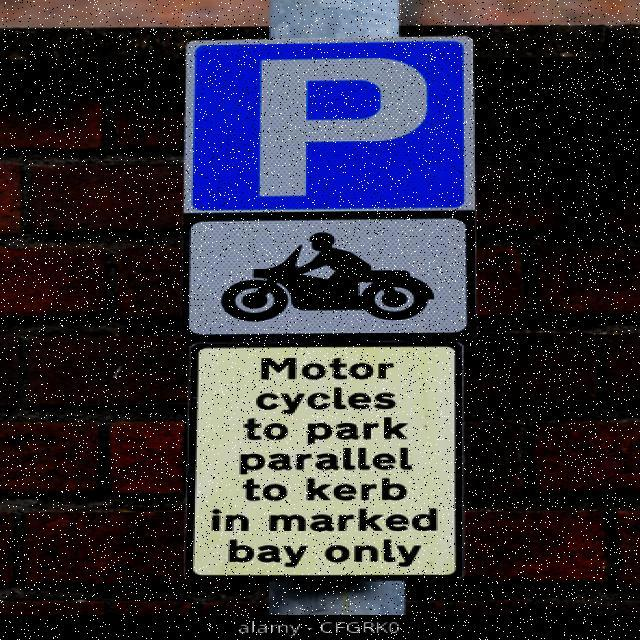Traffic sign: (174, 26, 480, 588)
